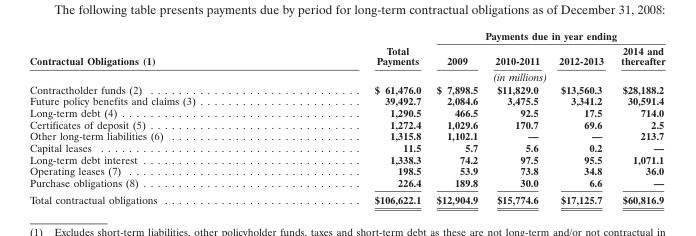table: (28, 28, 664, 205)
table column: (28, 28, 284, 205), (284, 28, 428, 205), (485, 28, 548, 205), (548, 28, 611, 205), (428, 28, 485, 205), (611, 28, 664, 205)
table column header: (28, 28, 664, 82)
table row: (28, 42, 664, 68), (28, 190, 664, 205), (28, 28, 664, 42), (28, 68, 664, 82), (28, 176, 664, 190), (28, 82, 664, 94), (28, 94, 664, 106), (28, 106, 664, 118), (28, 129, 664, 141), (28, 141, 664, 153), (28, 164, 664, 176), (28, 118, 664, 129), (28, 153, 664, 164)
table spanning cell: (28, 28, 284, 82), (284, 28, 428, 68), (284, 68, 664, 82), (428, 28, 664, 42)
